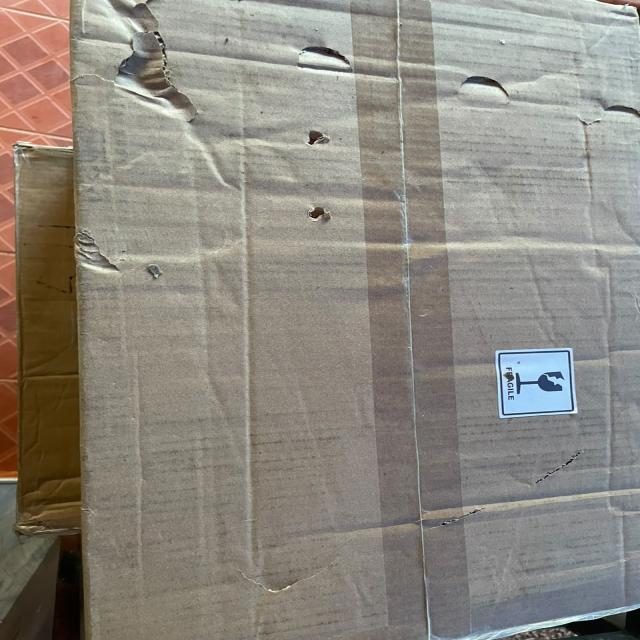carton_box: (53, 0, 640, 640)
fragile_label: (480, 328, 597, 433)
package_damage: (72, 3, 640, 295), (227, 551, 344, 613)
